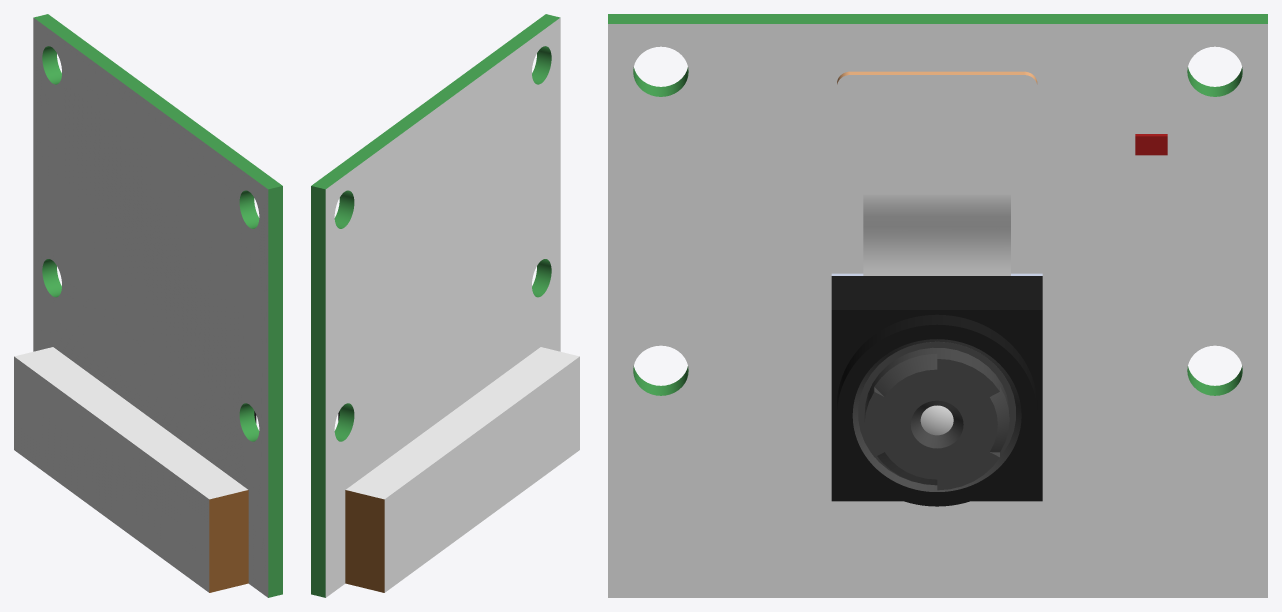
Rendered from raspicam.dae.
3 renders of one model, left to right at view 1: azimuth 30°, elevation 25°; view 2: azimuth 150°, elevation 25°; view 3: azimuth 270°, elevation 25°, orthographic. The views are drawn at different scales.
Visible parts, largest first — view 1: RasPi_Camera_Board_Standard; view 2: RasPi_Camera_Board_Standard; view 3: RasPi_Camera_Board_Standard, OVA5647_Pigtail_Standard (×2), OVA5647_Housing_Standard, OVA5647_Lens_FOV.
Boxes of the visible parts, x1,y1,x2,y2 form: RasPi_Camera_Board_Standard: (14,14,282,597); RasPi_Camera_Board_Standard: (311,14,579,597); RasPi_Camera_Board_Standard: (608,14,1267,597); OVA5647_Pigtail_Standard (×2): (837,71,1037,275); OVA5647_Housing_Standard: (831,276,1042,506); OVA5647_Lens_FOV: (858,341,1015,490).
Bounding box in the file's own units: 0.00825 × 0.025 × 0.024.
